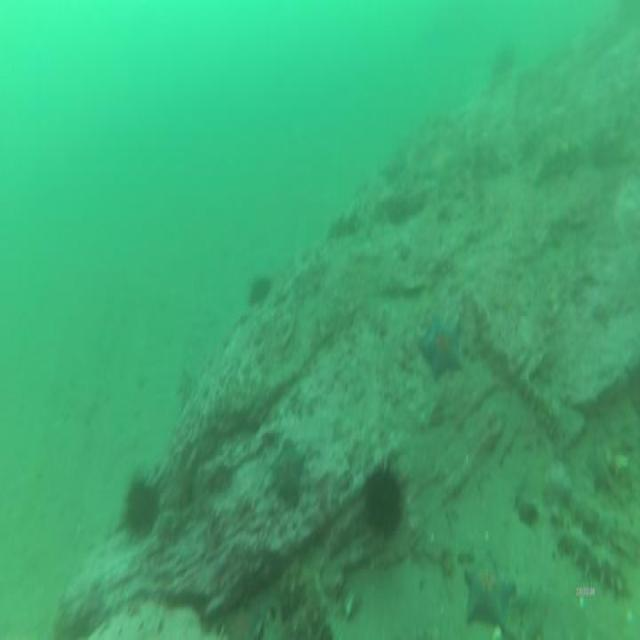echinus: (366, 471, 403, 534), (124, 480, 160, 532), (250, 275, 268, 305)
holothurian: (562, 525, 628, 610), (520, 375, 562, 433), (277, 580, 319, 637), (329, 213, 361, 237)
starfish: (464, 548, 515, 632), (421, 313, 463, 378), (273, 442, 306, 492)
